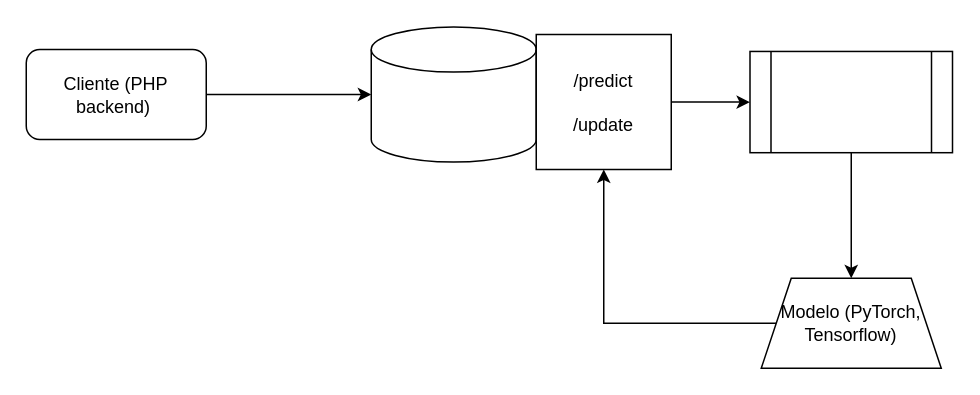
This 980x395 diagram has some shape labels left out. Here are the shapes that lost their labels. From the top down, the centre of each, then its label:
At pixel 453 94: "API de Recomendación".
At pixel 850 101: "Cola de peticiones (RabbitMQ, Redis)".
